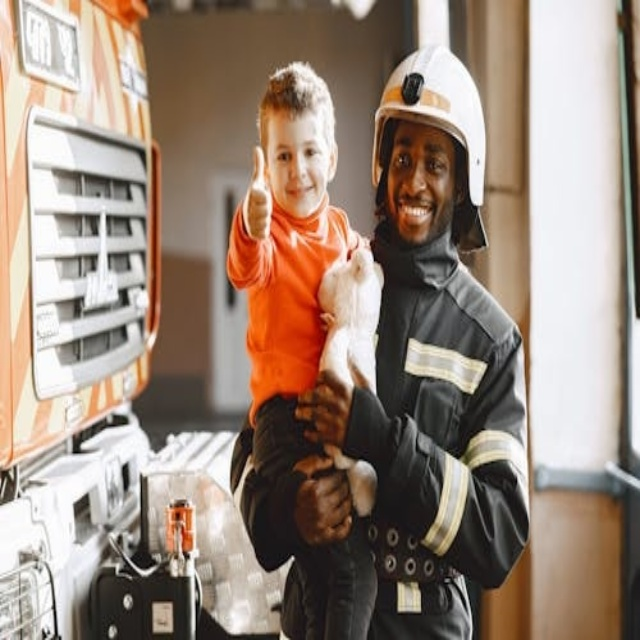Sin_gafas: (389, 140, 452, 181), (266, 138, 326, 163)
Sin_guantes: (292, 459, 355, 547), (295, 367, 354, 450), (241, 138, 276, 244)
Sin_mascara: (392, 194, 438, 236), (276, 179, 323, 209)
